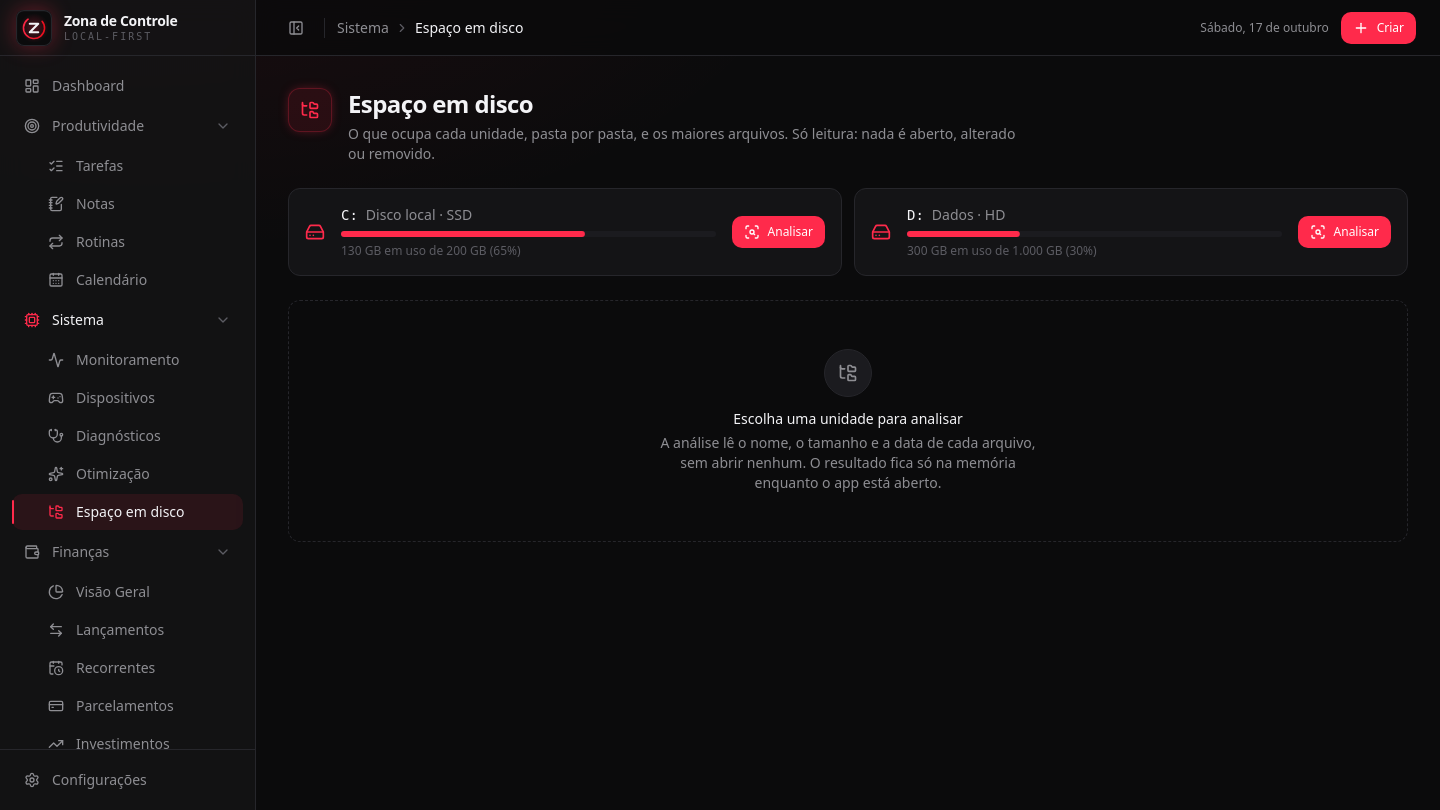
Scenario: página Espaço em disco › analisa a unidade escolhida e mostra a árvore, maiores primeiro
expect the text "Escolha uma unidade para analisar" is shown: met, box [733,409,963,428]
Click the button with aria-label "Analisar a unidade C:": (778, 232) [732,216,825,248]
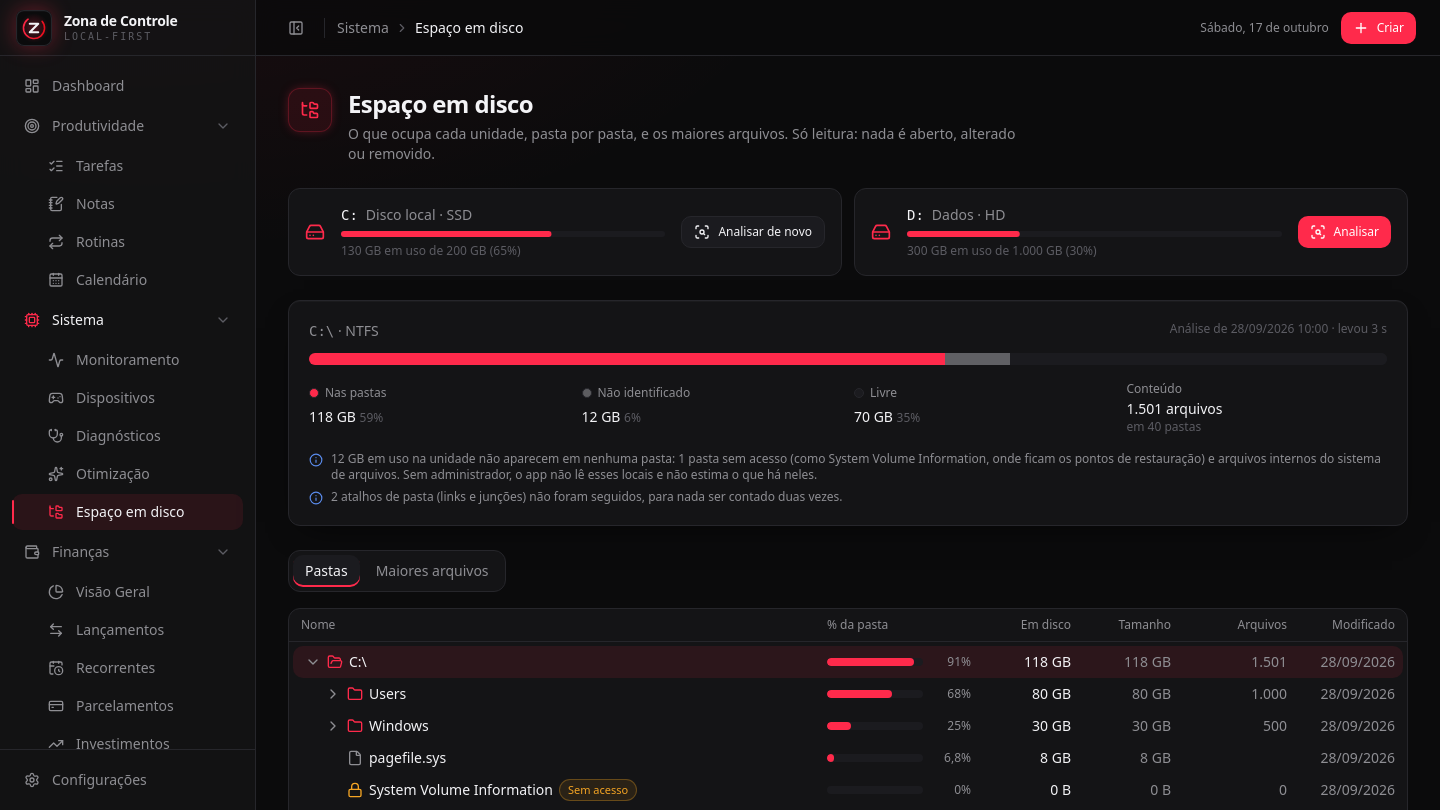
expect the text "Sem acesso" is shown: met, box [559,779,637,801]
expect the text "Nas pastas" is shown: met, box [309,384,386,401]
expect the text "12 GB em uso na unidade não aparecem em nenhuma pasta" is shown: met, box [331,450,1381,483]
